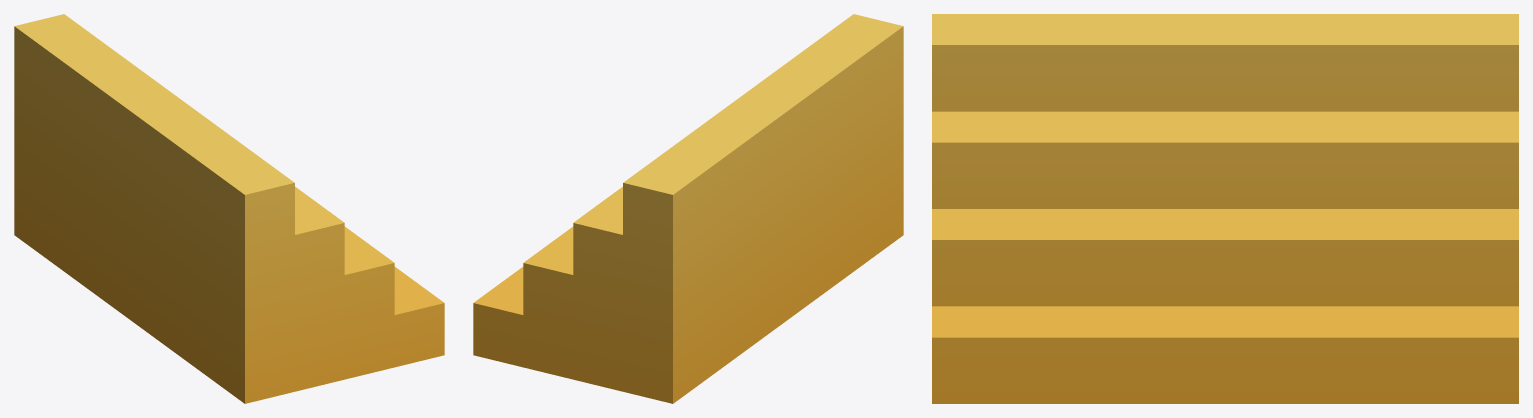
The model's file is Primitive_Stairs_Half.glb.
3 renders of one model, left to right at view 1: azimuth 30°, elevation 25°; view 2: azimuth 150°, elevation 25°; view 3: azimuth 270°, elevation 25°, orthographic. The views are drawn at different scales.
Visible parts, largest first — view 1: Primitive_Stairs_Half; view 2: Primitive_Stairs_Half; view 3: Primitive_Stairs_Half.
Part boxes in pixels (box(x1,y1,x2,y2)): Primitive_Stairs_Half: box(14, 14, 444, 403); Primitive_Stairs_Half: box(473, 14, 903, 403); Primitive_Stairs_Half: box(932, 14, 1518, 403).
Size of the model in its own units: 2 by 2 by 4.
1 material, 1 textured.
